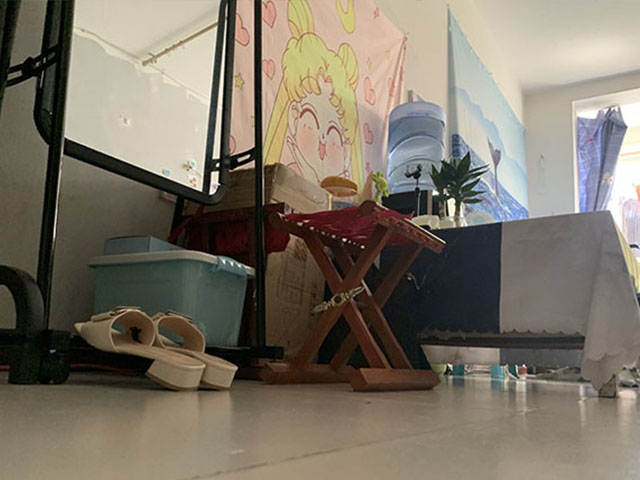bed: (400, 208, 640, 388)
curtain: (574, 108, 630, 212)
slippers: (67, 306, 208, 393), (154, 313, 238, 391)
stool: (256, 199, 446, 392)
